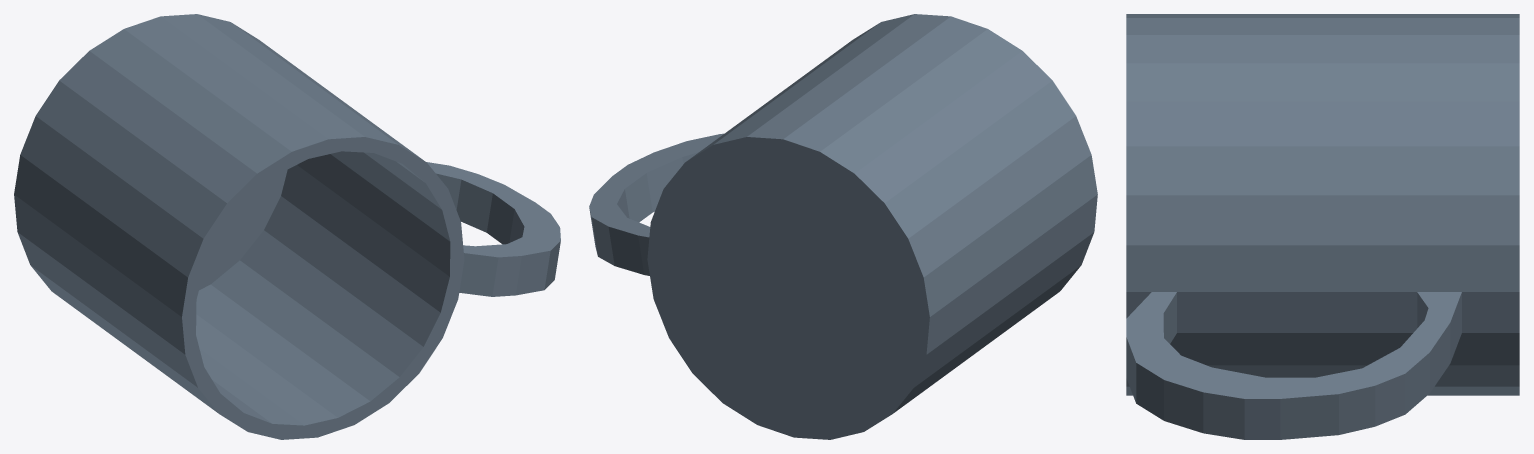
The picture shows the model from 3 angles, left to right: view 1: azimuth 30°, elevation 25°; view 2: azimuth 150°, elevation 25°; view 3: azimuth 270°, elevation 25°; orthographic projection. The views are drawn at different scales.
Parts seen in each view (by area): view 1: mug; view 2: mug; view 3: mug.
Boxes of the visible parts, bbox=[...] form: mug: bbox=[14, 14, 560, 439]; mug: bbox=[589, 14, 1097, 439]; mug: bbox=[1126, 14, 1519, 439].
Bounding box in the file's own units: 197 × 133 × 136.
